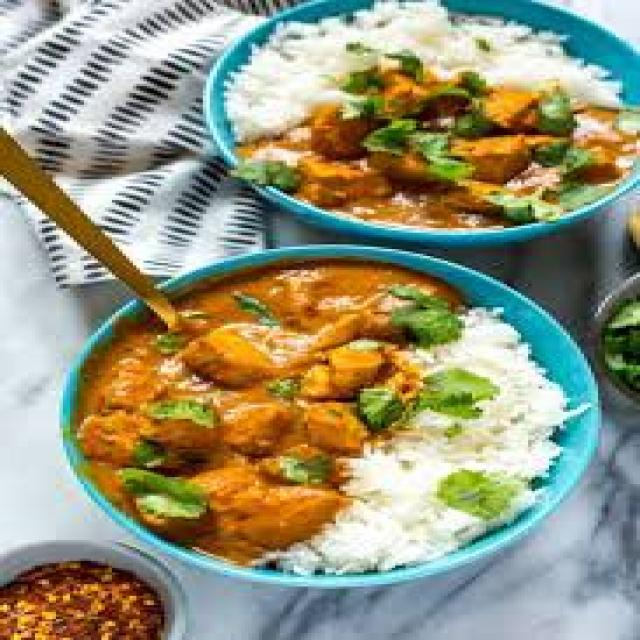Chicken Tikka: (68, 256, 450, 560), (230, 70, 640, 231)
